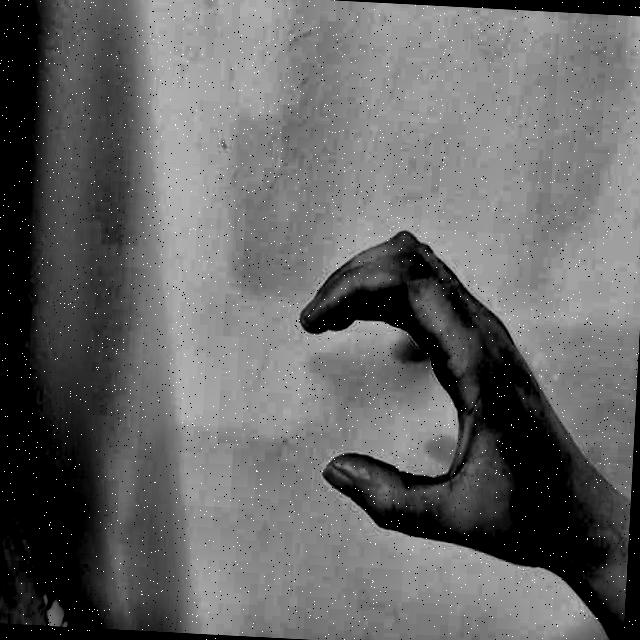A: (266, 172, 572, 594)
